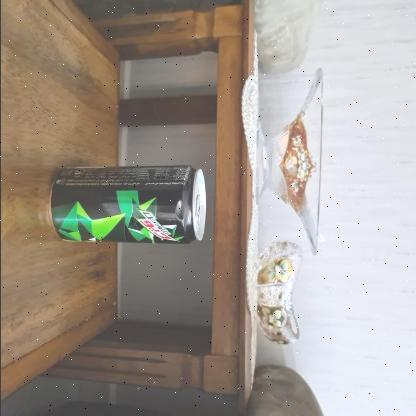Can: (49, 164, 206, 244)
